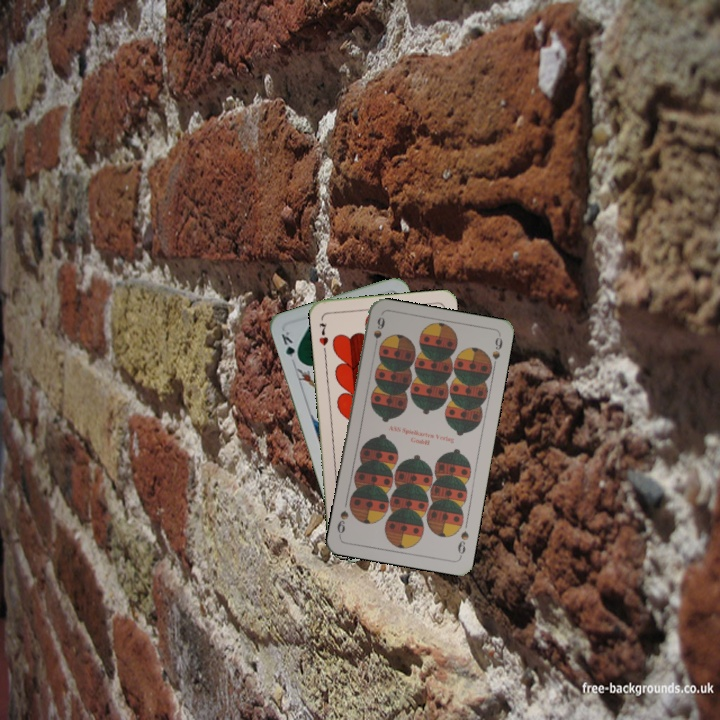GK: (277, 327, 302, 364)
H7: (315, 319, 331, 348)
S9: (370, 313, 388, 353), (454, 527, 471, 560)
